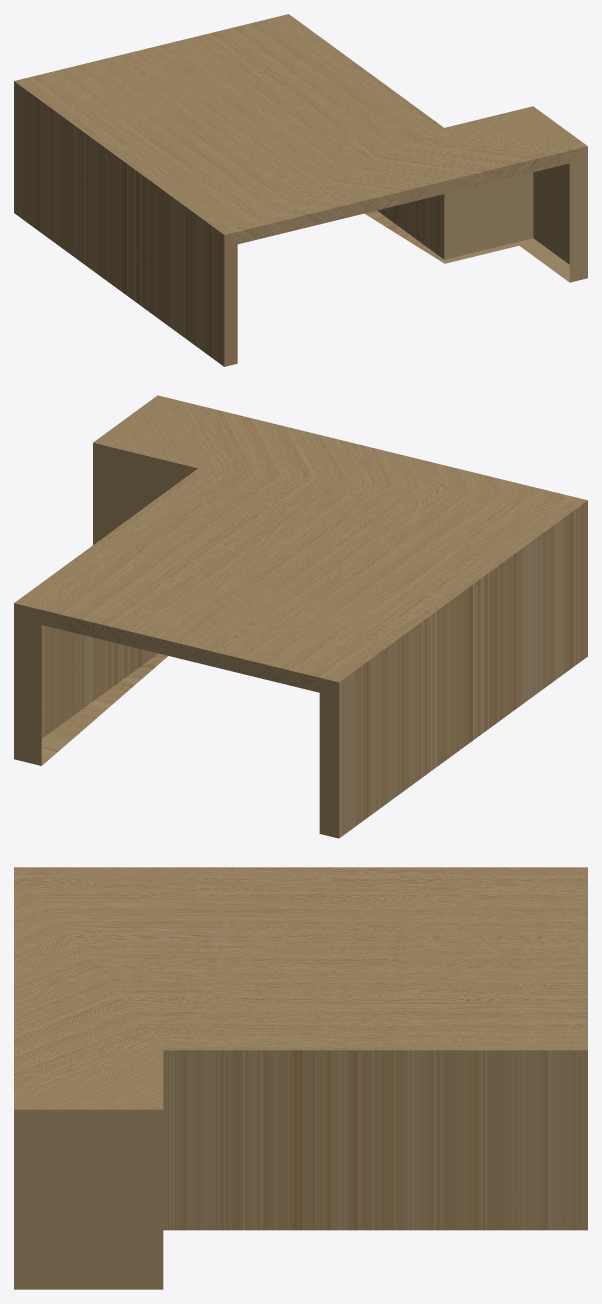
The model's file is zhedang.fbx.
3 views of the same model, one above another, from view 1: azimuth 30°, elevation 25°; view 2: azimuth 150°, elevation 25°; view 3: azimuth 270°, elevation 25° (orthographic). The views are drawn at different scales.
Parts seen in each view (by area): view 1: zhedang; view 2: zhedang; view 3: zhedang.
Boxes of the visible parts, x1=… form: zhedang: x1=14, y1=14, x2=587, y2=366; zhedang: x1=14, y1=395, x2=587, y2=838; zhedang: x1=14, y1=867, x2=587, y2=1289.
Size of the model in its own units: 1536 by 533 by 1539.
